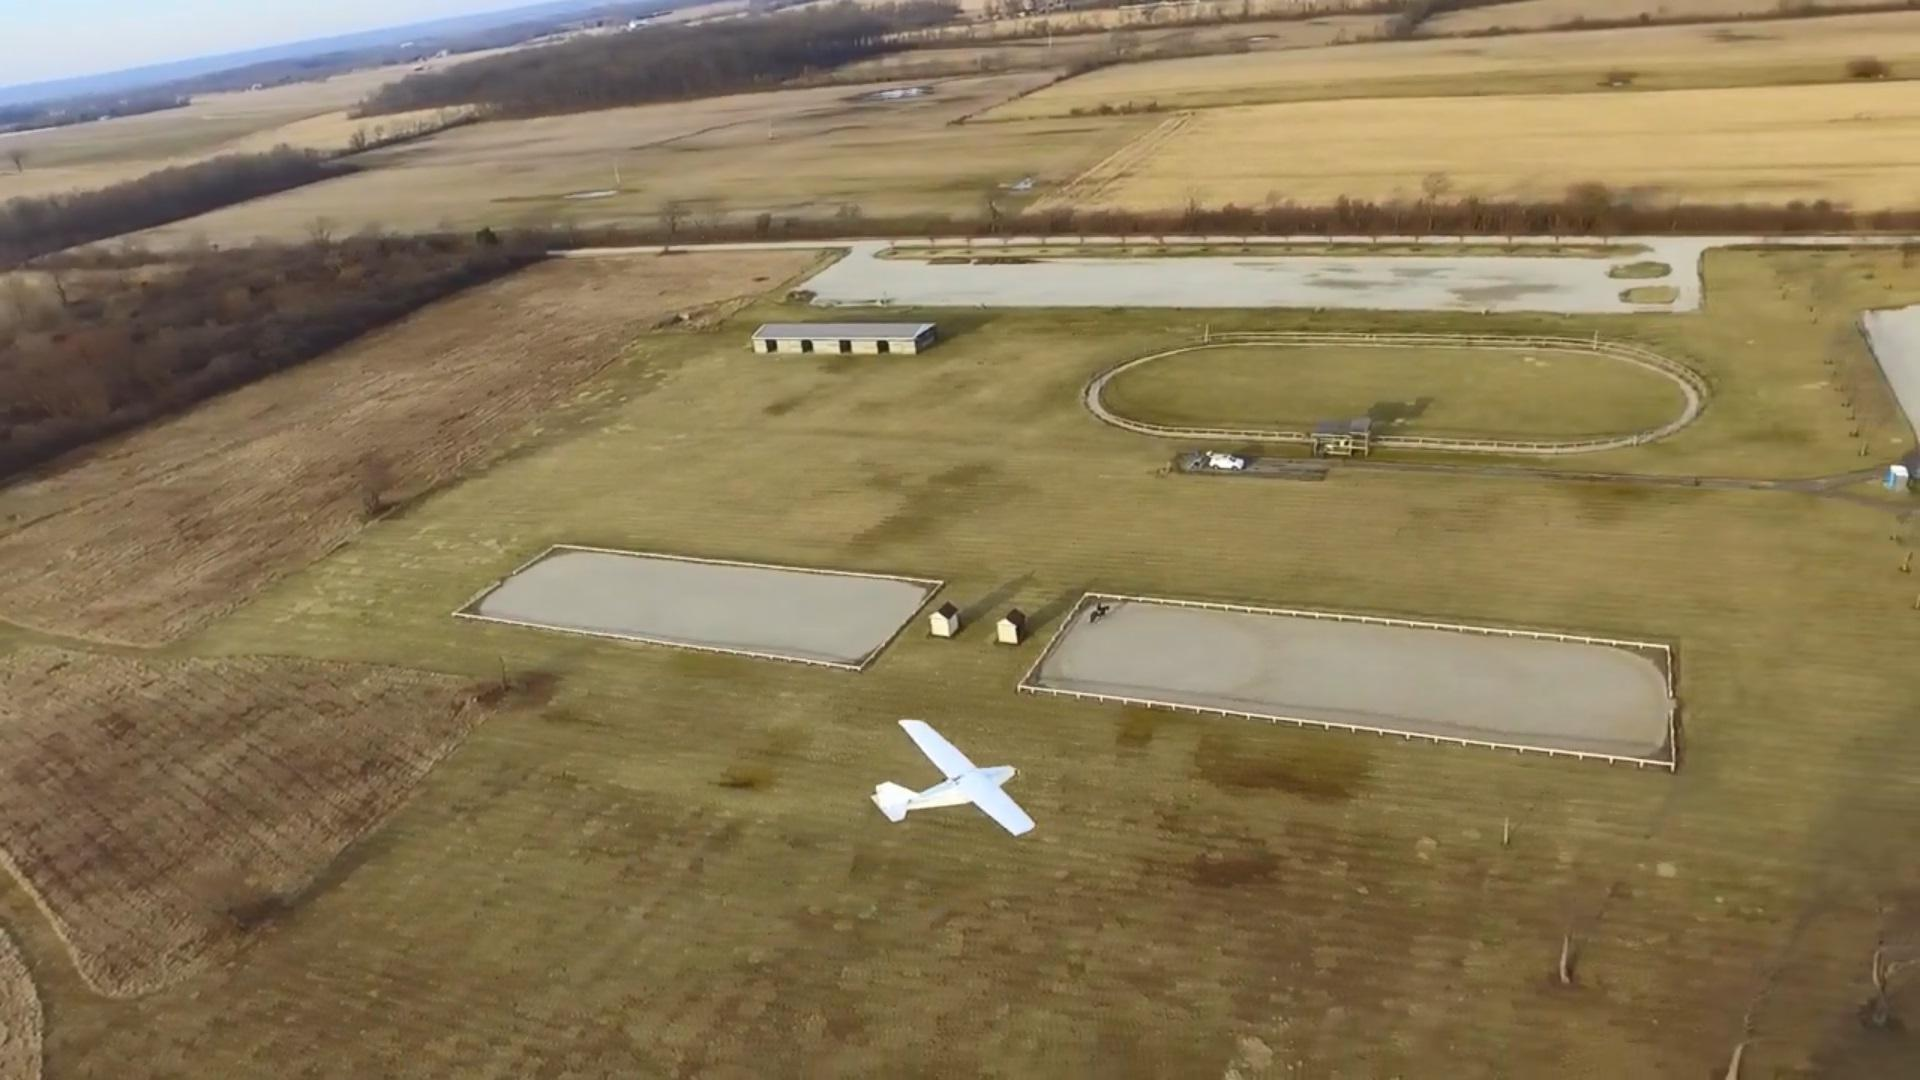Airplane: (842, 689, 1058, 860)
